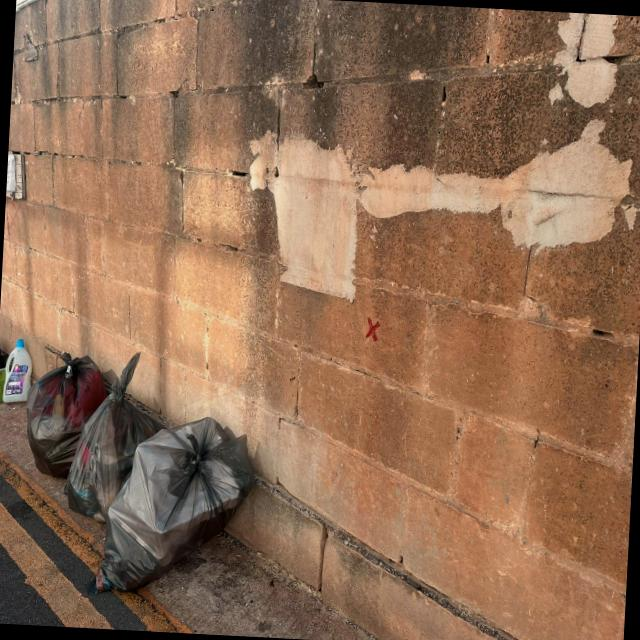black_bag: (100, 409, 258, 601), (62, 372, 170, 518), (21, 352, 106, 479)
other_waste: (0, 333, 34, 411)
